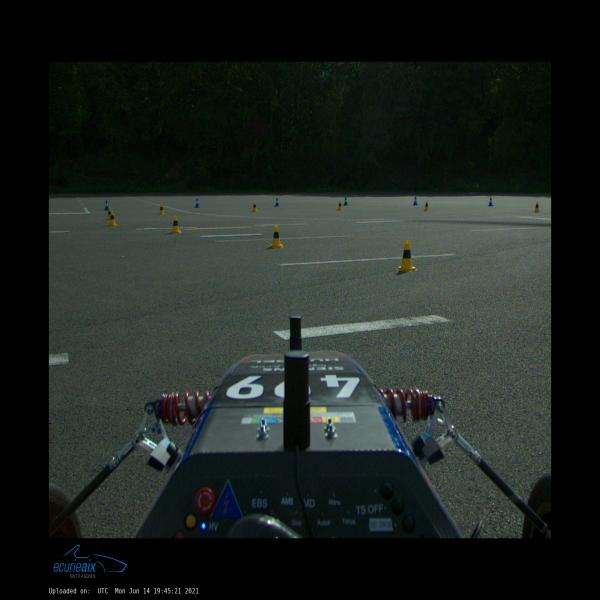blue_cone: (103, 200, 109, 211), (194, 198, 200, 208), (412, 196, 418, 205), (488, 197, 494, 206), (343, 196, 348, 206), (274, 198, 280, 206)
yellow_cone: (396, 240, 418, 272), (269, 225, 285, 248), (170, 215, 182, 234), (108, 211, 118, 226), (158, 203, 166, 215), (423, 200, 430, 211), (251, 201, 258, 212), (534, 201, 540, 212), (106, 207, 111, 220), (337, 201, 343, 211)
